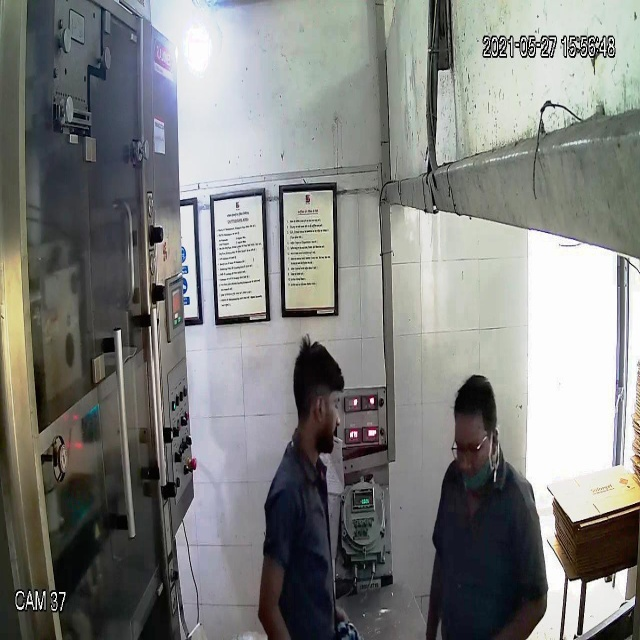Gafas: (446, 428, 493, 465)
